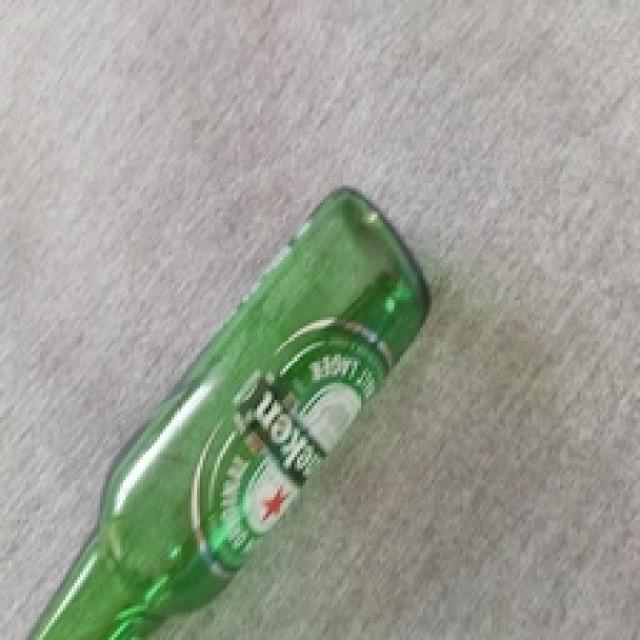Glass: (24, 188, 430, 640)
